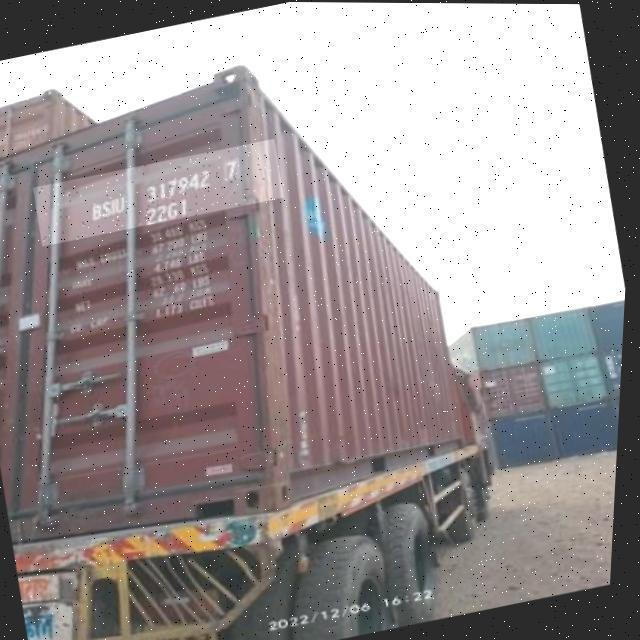container_number_h: (33, 136, 288, 247)
